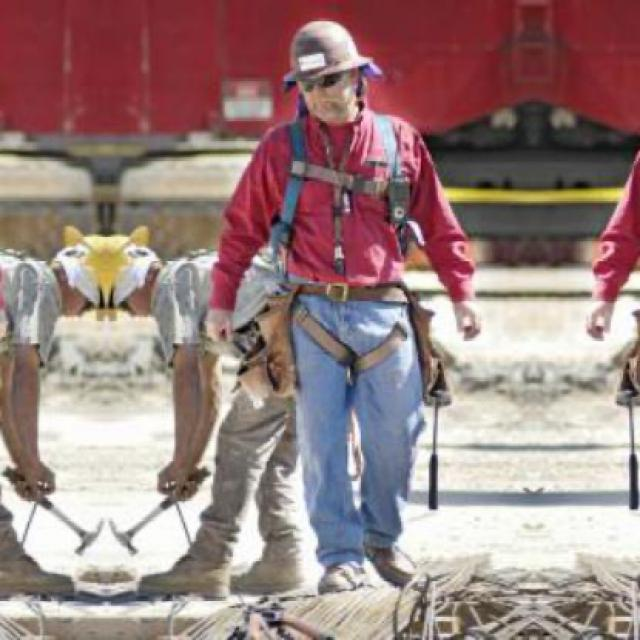helmet: (282, 17, 373, 123), (110, 220, 158, 328), (57, 220, 105, 328)
